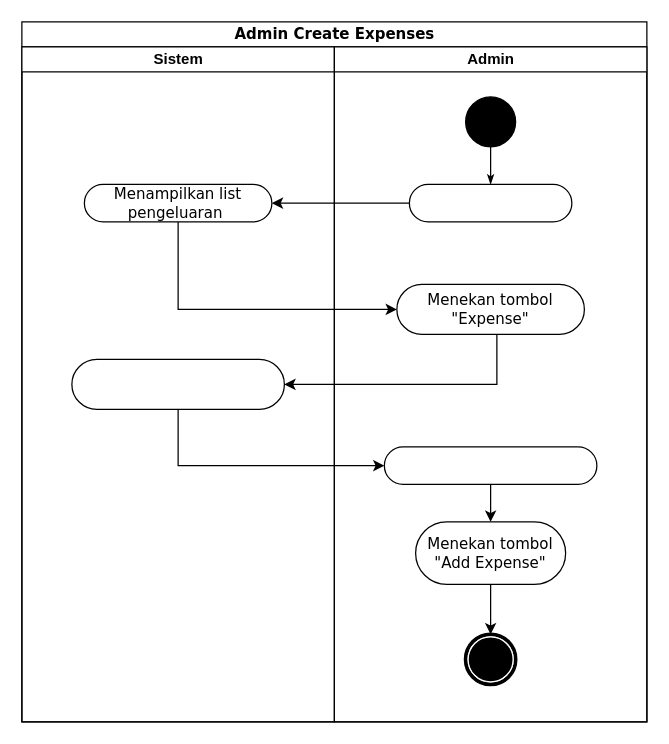
The diagram is 669 pixels wide and 744 high, and some of its shapes have lost their labels. Each missing label, with the centre of its shape:
"Menampilkan modal form Add New Expense" goes at point 177,383.
"Menekan menu Expenses" goes at point 490,202.
"Mengisi data pengeluaran" goes at point 490,465.
